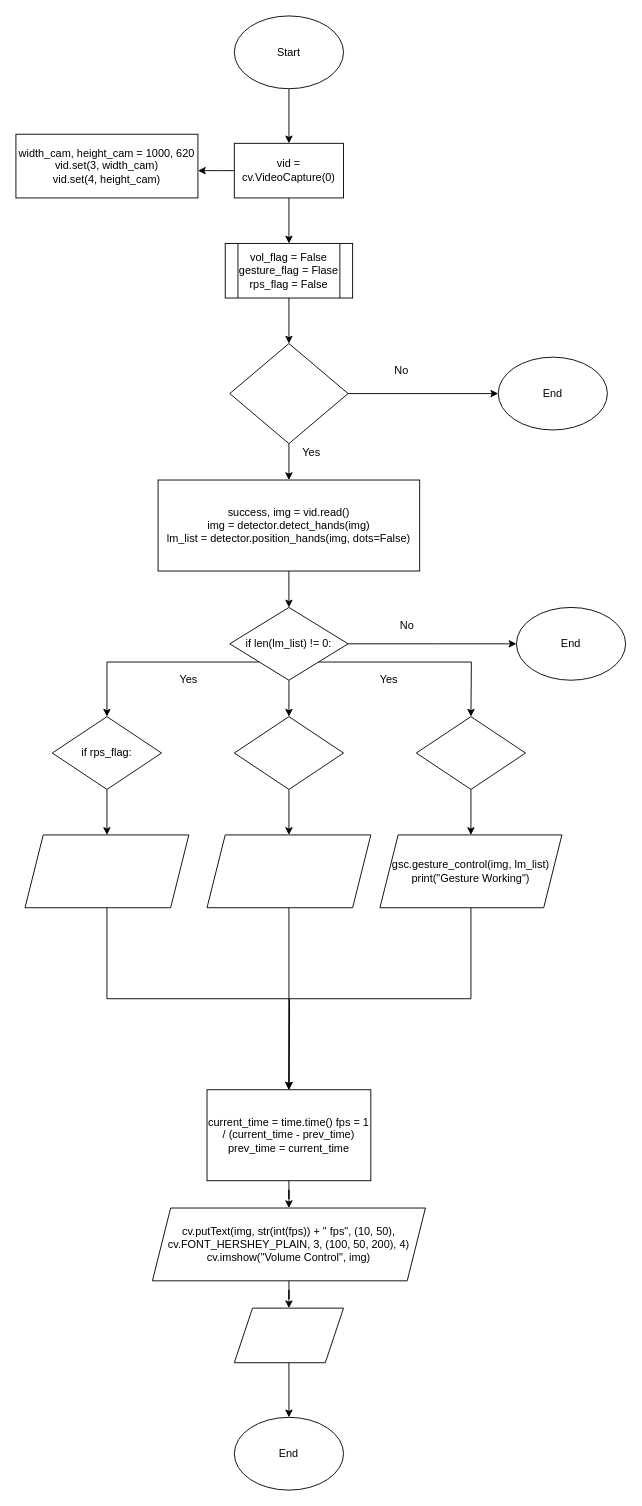
This 642x1506 diagram has some shape labels left out. Here are the shapes that lost their labels. From the top down, the box of each, then its label:
(229, 343, 348, 444): While True:
(233, 716, 344, 789): if vol_flag:
(415, 716, 526, 789): if gesture_flag:
(24, 834, 189, 908): rps.rps_control(img, lm_list) print('RPS_working')
(206, 834, 371, 908): vsc.vol_control(img, lm_list) print("Volume Working")
(233, 1307, 344, 1363): cv.waitkey(1)
